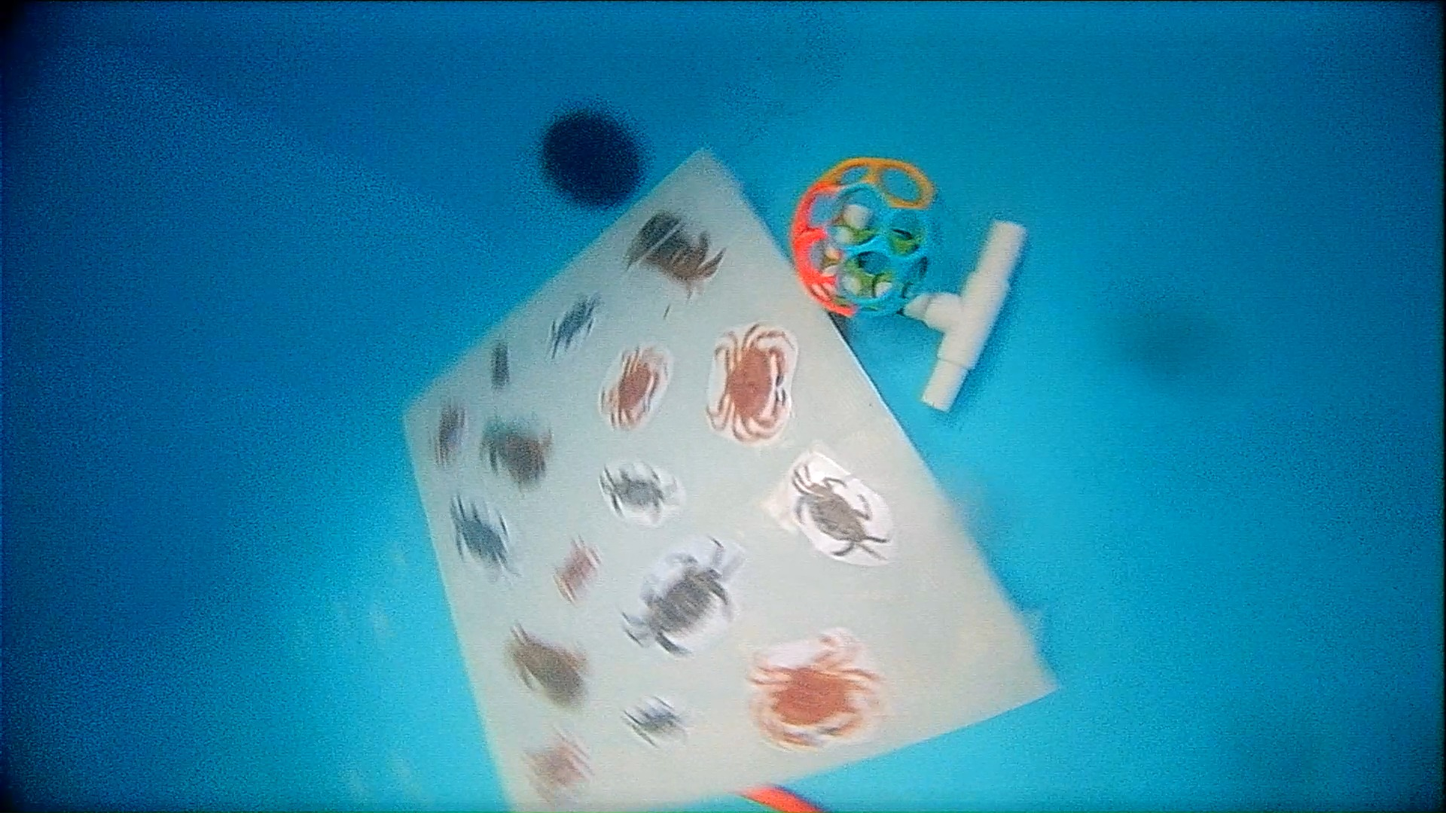GreenCrab: (624, 539, 737, 656), (792, 468, 888, 560), (451, 496, 509, 569), (548, 294, 600, 358)
